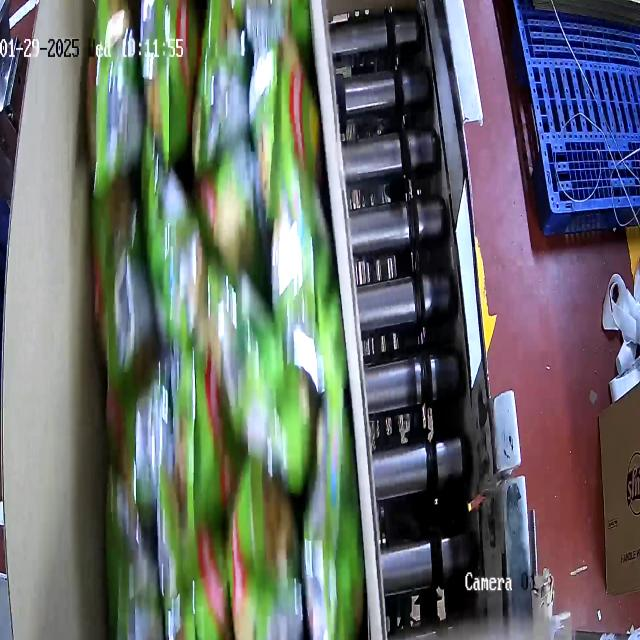YOGURT_HERB: (90, 0, 372, 638)
